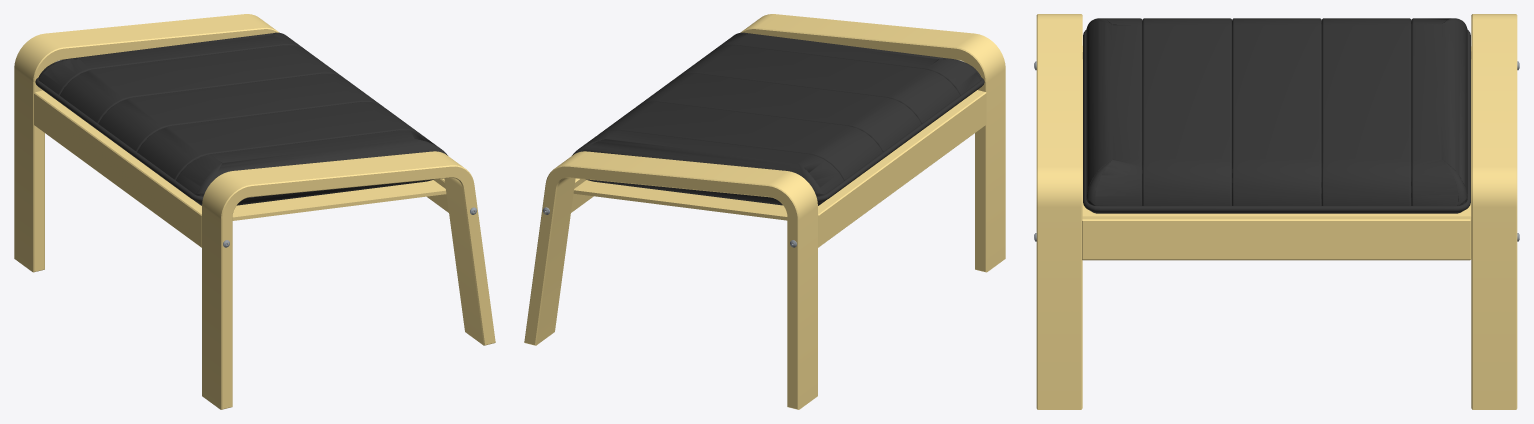
The picture shows the model from 3 angles, left to right: view 1: azimuth 30°, elevation 25°; view 2: azimuth 150°, elevation 25°; view 3: azimuth 270°, elevation 25°; orthographic projection. The views are drawn at different scales.
Visible parts, largest first — view 1: Mesh8 Group_4 Chair_IKEA_Poang_Ottoman1 Model, Mesh6 Group_6 Chair_IKEA_Poang_Ottoman1 Model, Mesh5 Group_7 Chair_IKEA_Poang_Ottoman1 Model, Mesh15 Group_3 Chair_IKEA_Poang_Ottoman1 Model, Mesh17 Group_1 Chair_IKEA_Poang_Ottoman1 Model, Mesh7 Group_5 Chair_IKEA_Poang_Ottoman1 Model; view 2: Mesh8 Group_4 Chair_IKEA_Poang_Ottoman1 Model, Mesh5 Group_7 Chair_IKEA_Poang_Ottoman1 Model, Mesh6 Group_6 Chair_IKEA_Poang_Ottoman1 Model, Mesh15 Group_3 Chair_IKEA_Poang_Ottoman1 Model, Mesh17 Group_1 Chair_IKEA_Poang_Ottoman1 Model, Mesh7 Group_5 Chair_IKEA_Poang_Ottoman1 Model; view 3: Mesh8 Group_4 Chair_IKEA_Poang_Ottoman1 Model, Mesh5 Group_7 Chair_IKEA_Poang_Ottoman1 Model, Mesh6 Group_6 Chair_IKEA_Poang_Ottoman1 Model, Mesh16 Group_2 Chair_IKEA_Poang_Ottoman1 Model, Mesh7 Group_5 Chair_IKEA_Poang_Ottoman1 Model, Mesh17 Group_1 Chair_IKEA_Poang_Ottoman1 Model.
Part boxes in pixels (x1,y1,x2,y2): Mesh8 Group_4 Chair_IKEA_Poang_Ottoman1 Model: (38,32,447,205); Mesh6 Group_6 Chair_IKEA_Poang_Ottoman1 Model: (202,151,495,409); Mesh5 Group_7 Chair_IKEA_Poang_Ottoman1 Model: (14,14,278,272); Mesh15 Group_3 Chair_IKEA_Poang_Ottoman1 Model: (34,90,201,247); Mesh17 Group_1 Chair_IKEA_Poang_Ottoman1 Model: (193,180,446,220); Mesh7 Group_5 Chair_IKEA_Poang_Ottoman1 Model: (35,77,203,201); Mesh8 Group_4 Chair_IKEA_Poang_Ottoman1 Model: (572,32,981,205); Mesh5 Group_7 Chair_IKEA_Poang_Ottoman1 Model: (524,151,817,409); Mesh6 Group_6 Chair_IKEA_Poang_Ottoman1 Model: (741,14,1005,272); Mesh15 Group_3 Chair_IKEA_Poang_Ottoman1 Model: (818,90,986,247); Mesh17 Group_1 Chair_IKEA_Poang_Ottoman1 Model: (573,180,826,220); Mesh7 Group_5 Chair_IKEA_Poang_Ottoman1 Model: (601,77,984,201); Mesh8 Group_4 Chair_IKEA_Poang_Ottoman1 Model: (1086,18,1467,213); Mesh5 Group_7 Chair_IKEA_Poang_Ottoman1 Model: (1471,14,1517,409); Mesh6 Group_6 Chair_IKEA_Poang_Ottoman1 Model: (1036,14,1082,409); Mesh16 Group_2 Chair_IKEA_Poang_Ottoman1 Model: (1082,216,1471,260); Mesh7 Group_5 Chair_IKEA_Poang_Ottoman1 Model: (1083,29,1470,212); Mesh17 Group_1 Chair_IKEA_Poang_Ottoman1 Model: (1082,59,1471,216).
Bounding box in the file's own units: 20.78 × 15.53 × 27.06.
